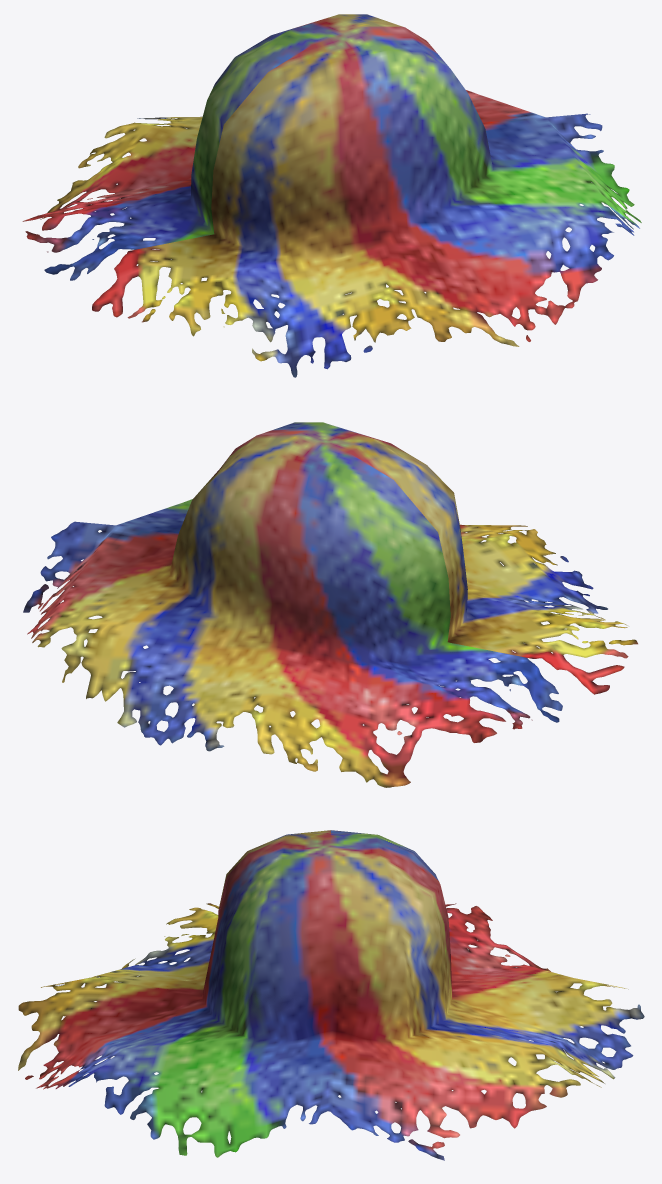
The model's file is hat_0450064.FBX.
The picture shows the model from 3 angles, top to bottom: view 1: azimuth 30°, elevation 25°; view 2: azimuth 150°, elevation 25°; view 3: azimuth 270°, elevation 25°; orthographic projection. The views are drawn at different scales.
Parts seen in each view (by area): view 1: hat_0450064; view 2: hat_0450064; view 3: hat_0450064.
Part boxes in pixels (x1,y1,x2,y2): hat_0450064: (22,14,641,377); hat_0450064: (23,422,637,787); hat_0450064: (18,830,644,1160).
Bounding box in the file's own units: 53.9 × 21.65 × 53.02.
